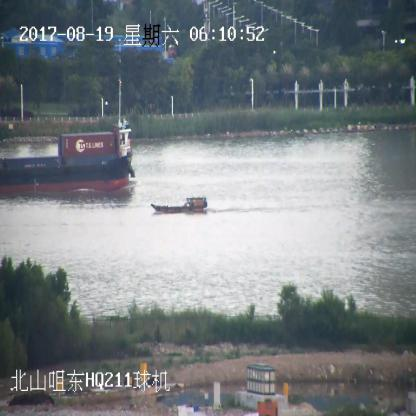Fishing Boat: (151, 196, 207, 215)
